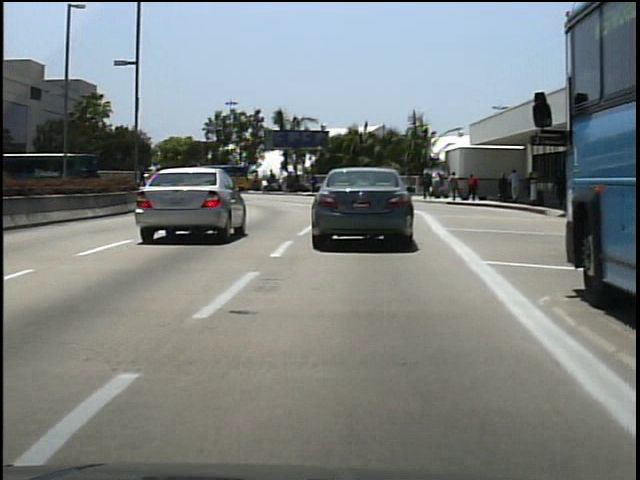person: (507, 166, 523, 205), (464, 170, 481, 205), (526, 169, 541, 204), (495, 171, 510, 205), (448, 169, 463, 203), (136, 161, 151, 195), (420, 172, 434, 201), (210, 168, 226, 193)
